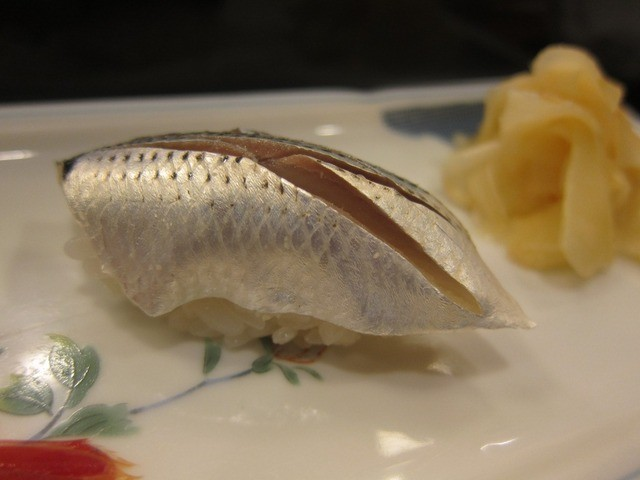spotted-shad: (53, 127, 540, 364)
